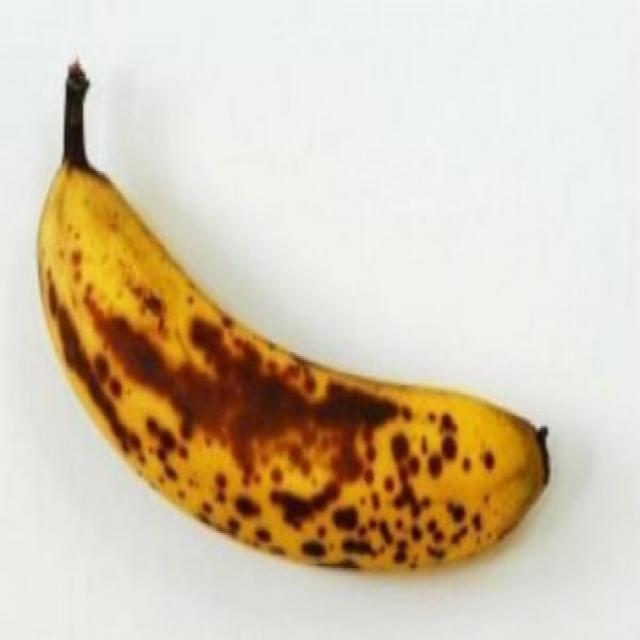Banana: (39, 66, 553, 576)
